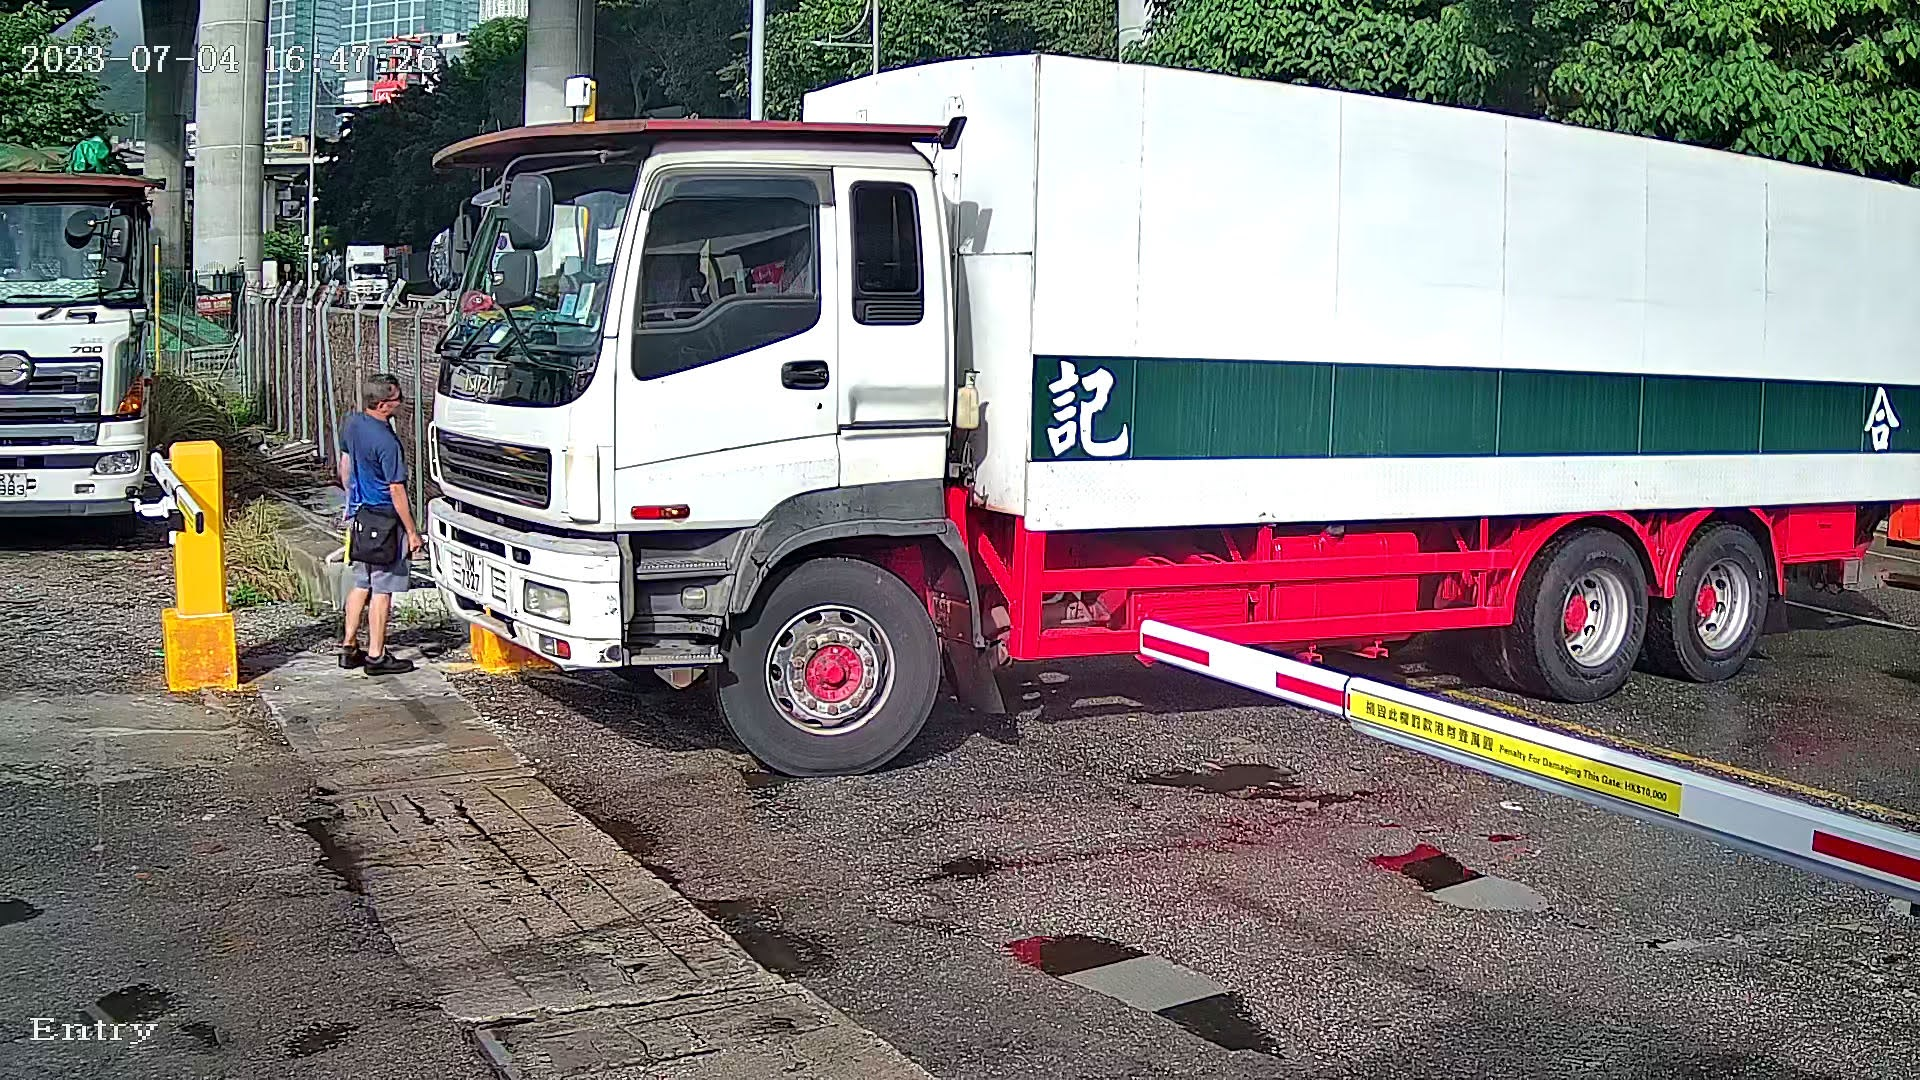truck: (382, 34, 1920, 781)
